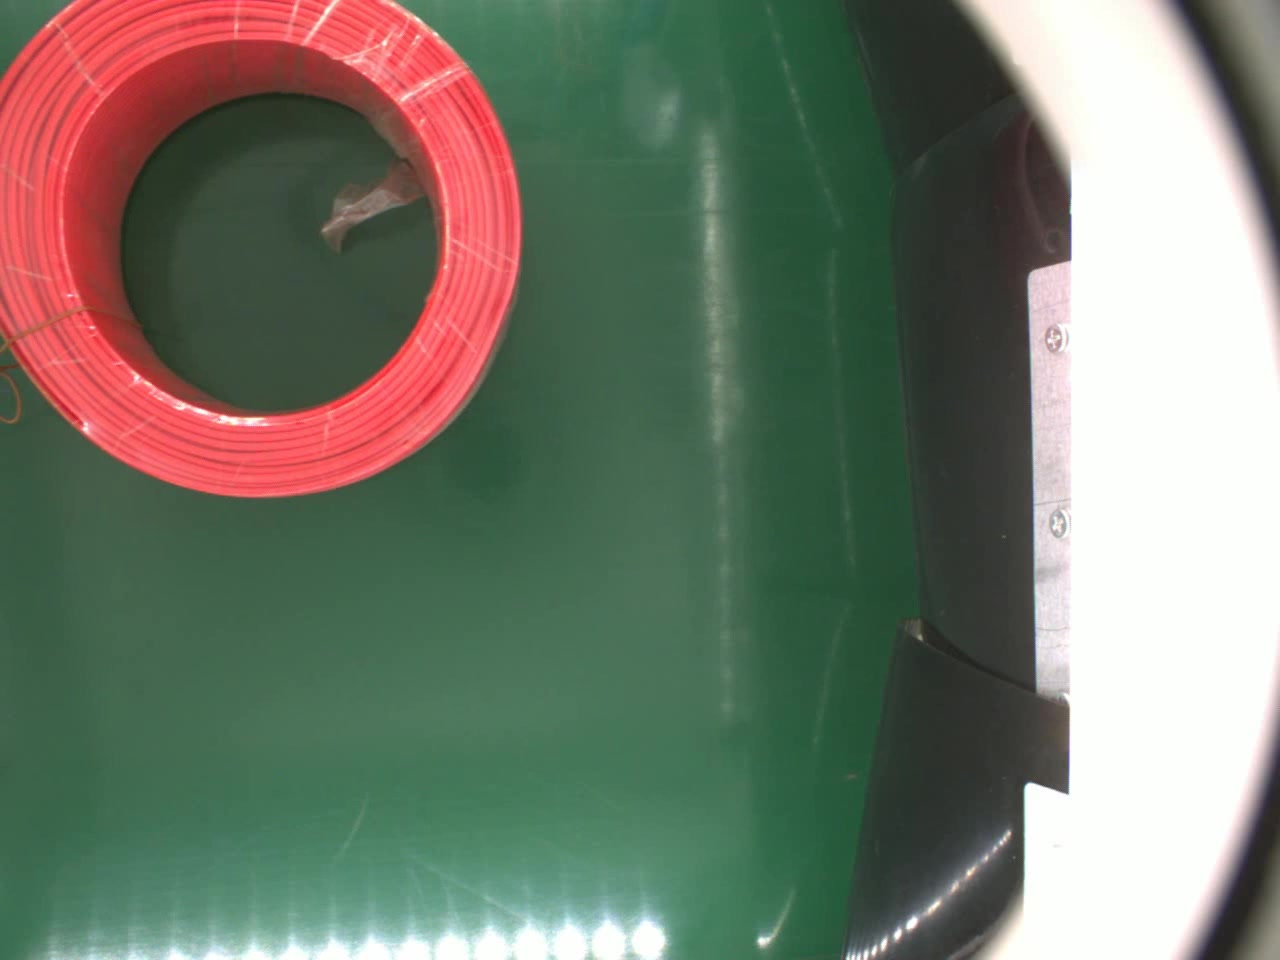red: (0, 0, 529, 504)
